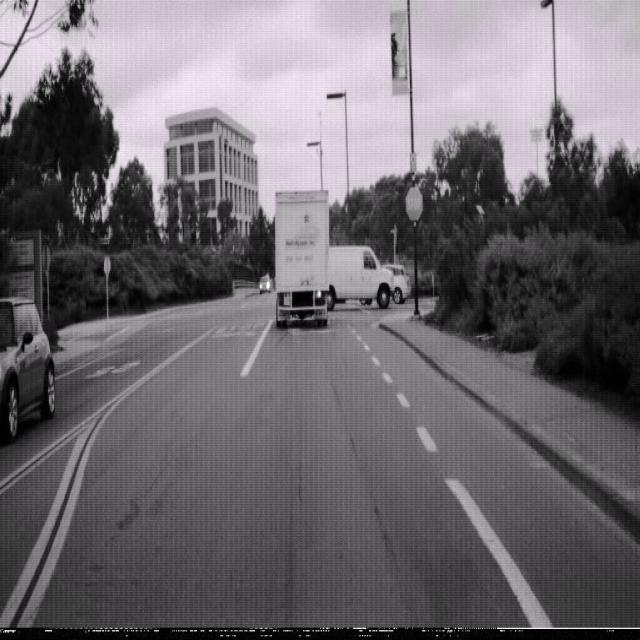stop_sign: (405, 185, 423, 222)
